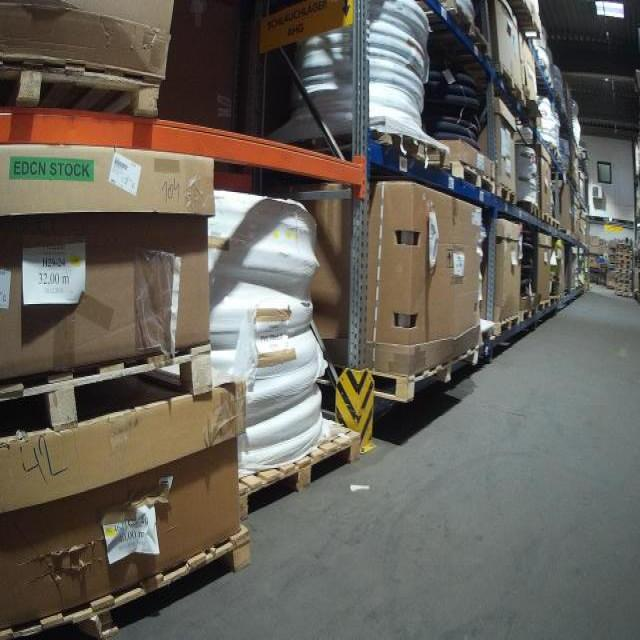pallet: (2, 526, 257, 640), (0, 338, 217, 445), (238, 418, 361, 524), (0, 53, 163, 119), (370, 344, 480, 407), (435, 0, 492, 59), (427, 154, 497, 197), (496, 62, 524, 102), (494, 181, 518, 206), (494, 314, 519, 337), (520, 201, 540, 218), (519, 305, 537, 323), (539, 211, 552, 225), (536, 300, 550, 311), (548, 293, 559, 305), (550, 215, 559, 229), (616, 257, 632, 263), (617, 276, 634, 280), (617, 283, 634, 287), (617, 287, 633, 291), (617, 273, 634, 276), (617, 280, 634, 283), (618, 268, 633, 271), (619, 264, 632, 267), (617, 271, 633, 273)
